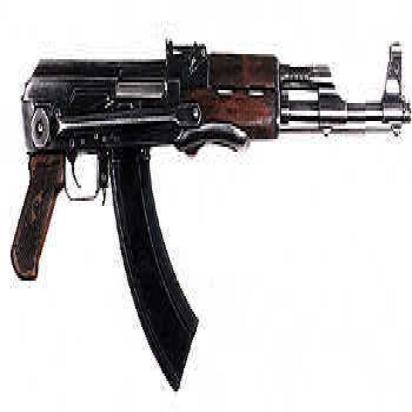Gun: (13, 21, 409, 402)
